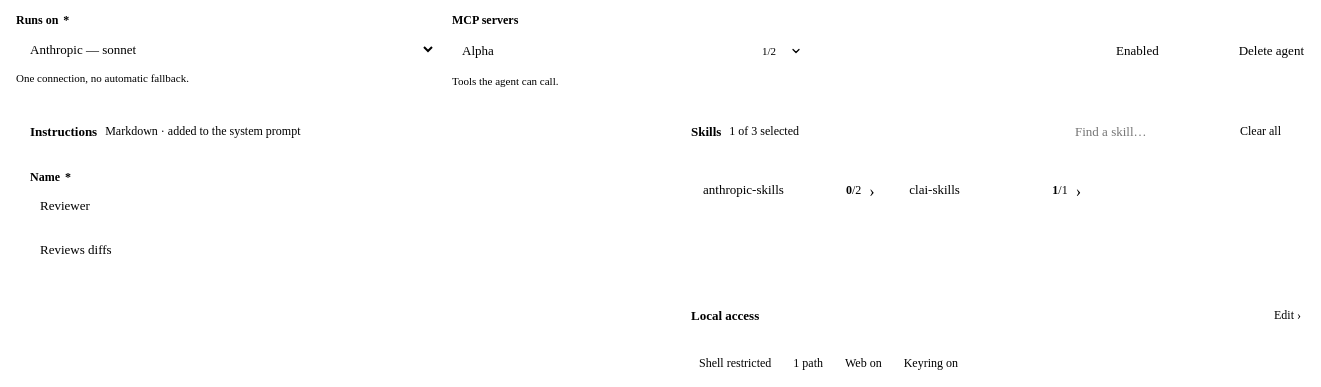
AgentBehaviorForm › skills › selects only what the filter shows
Expected: the field showing "Reviewer" is shown, [30,191,643,221]
Click the button "anthropic-skills 0/2 ›": (791,192) [691,170,891,214]
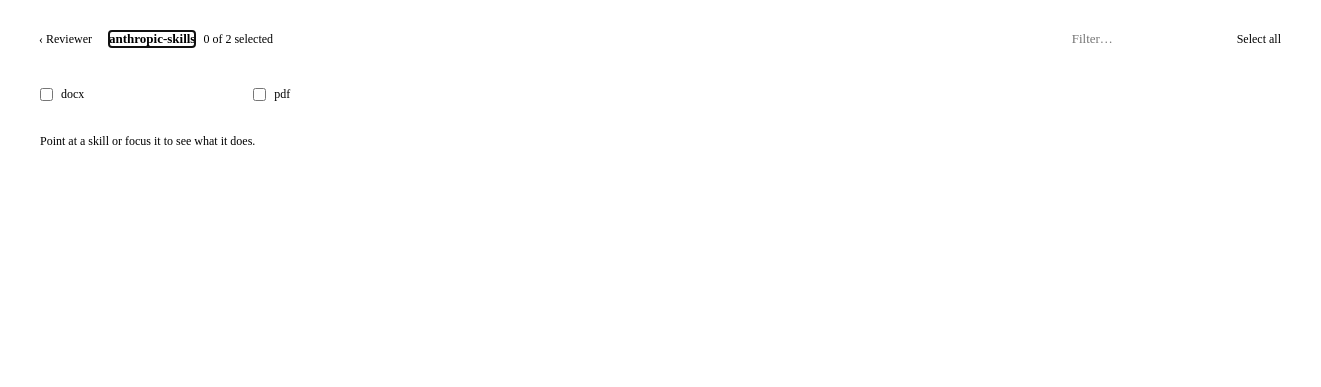
In the search field named "Filter anthropic-skills": (1142,39) [1062,27,1222,51], type "pdf"
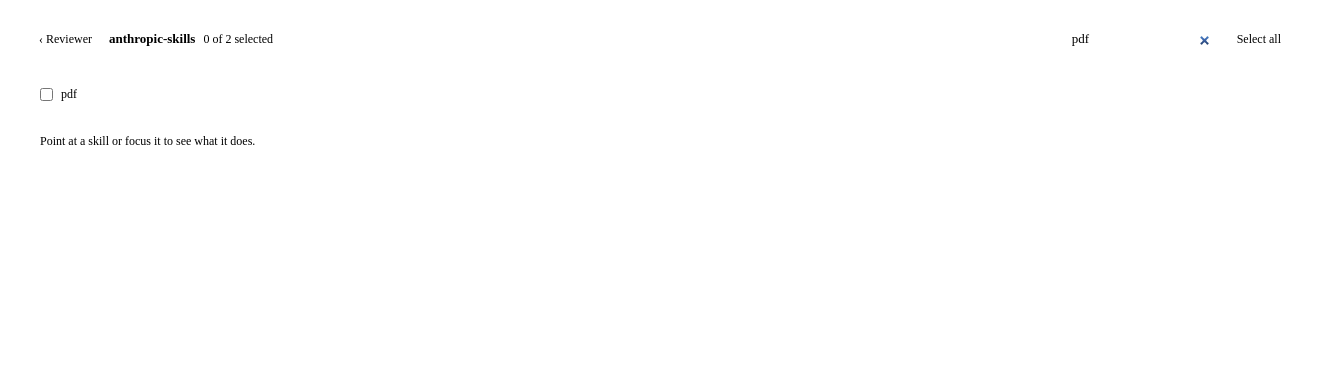
Click the button "Select all": (1259,39) [1228,26,1290,52]
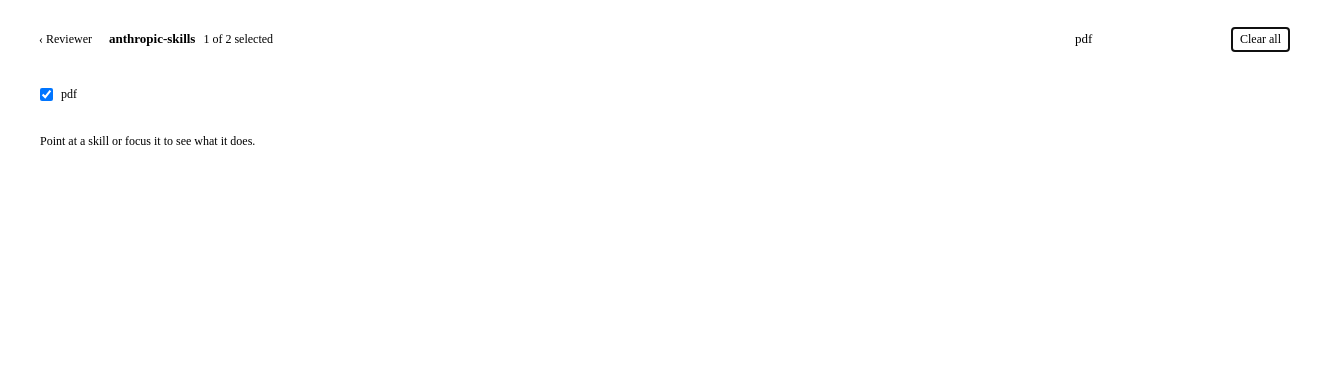
Now the text "1 of 2 selected" is shown, box [203,32,273,46]
